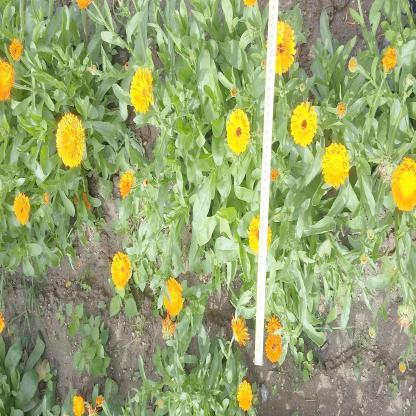marigold: (266, 23, 294, 74), (392, 158, 415, 213), (57, 115, 82, 165), (322, 143, 348, 186), (226, 110, 250, 154), (248, 214, 272, 257), (290, 104, 315, 145), (131, 70, 152, 112), (162, 281, 184, 316), (112, 252, 130, 288)
